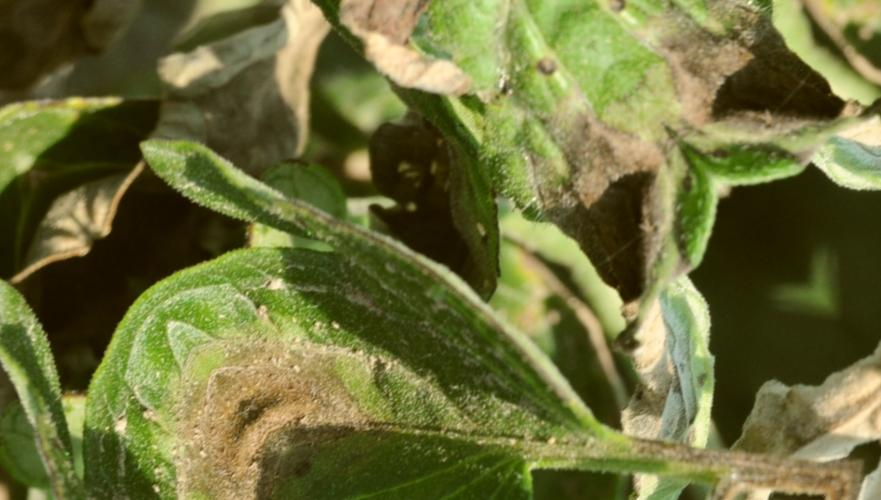Tomato leaf late blight: (116, 88, 630, 500), (251, 0, 741, 351)
